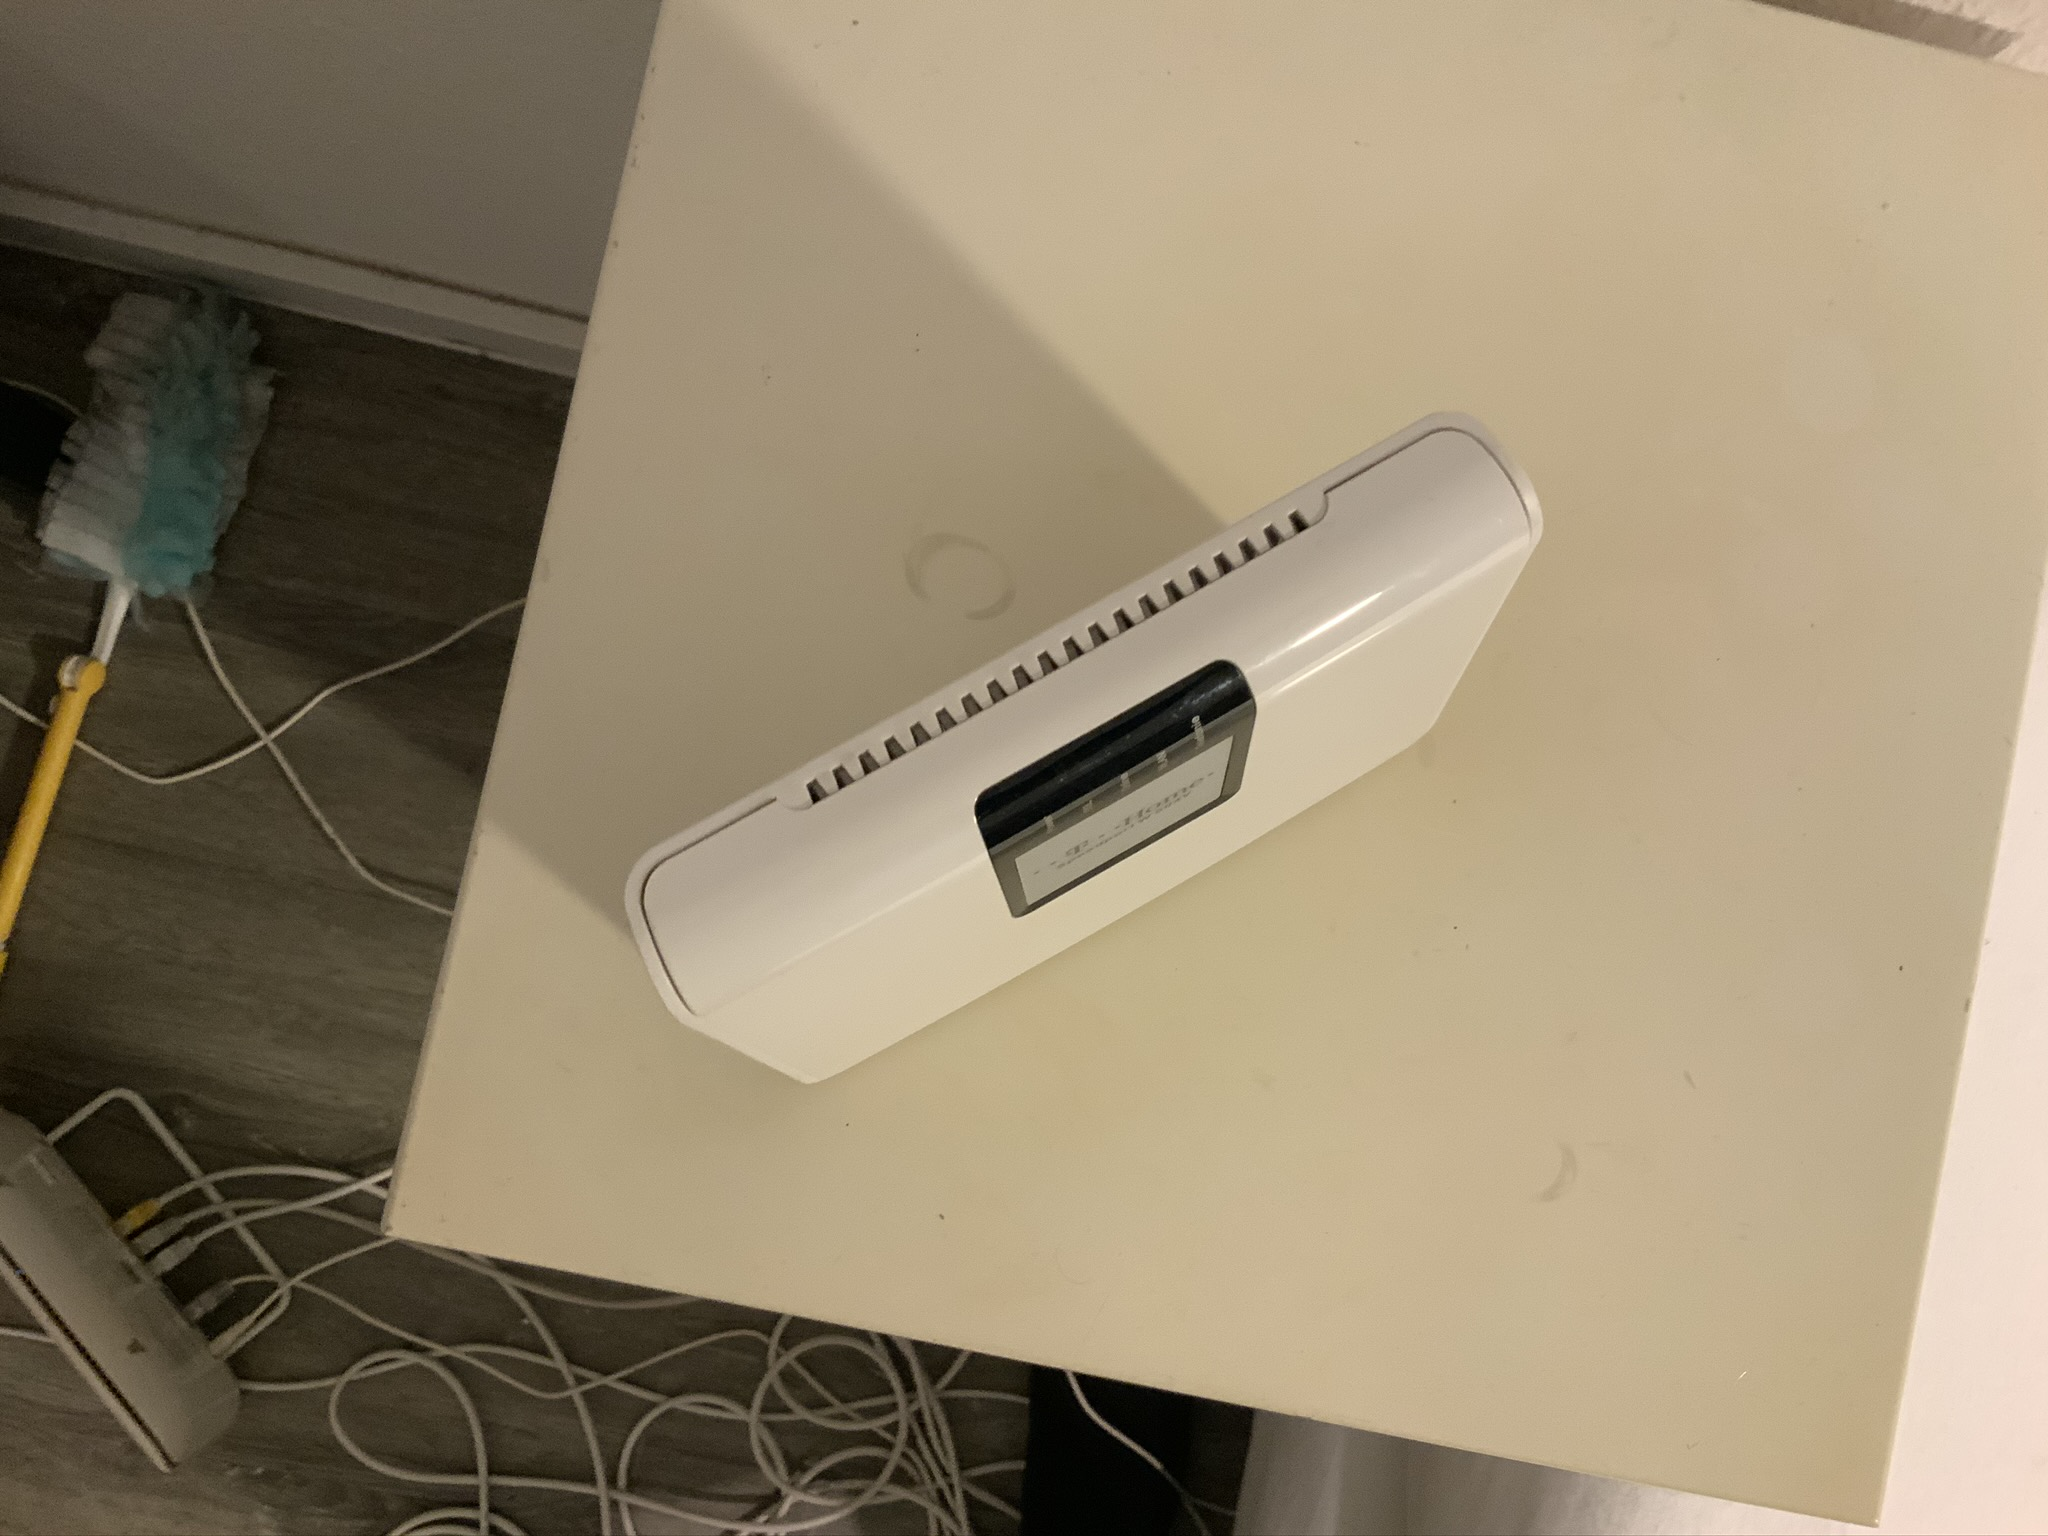Router2: (616, 399, 1559, 1092)
